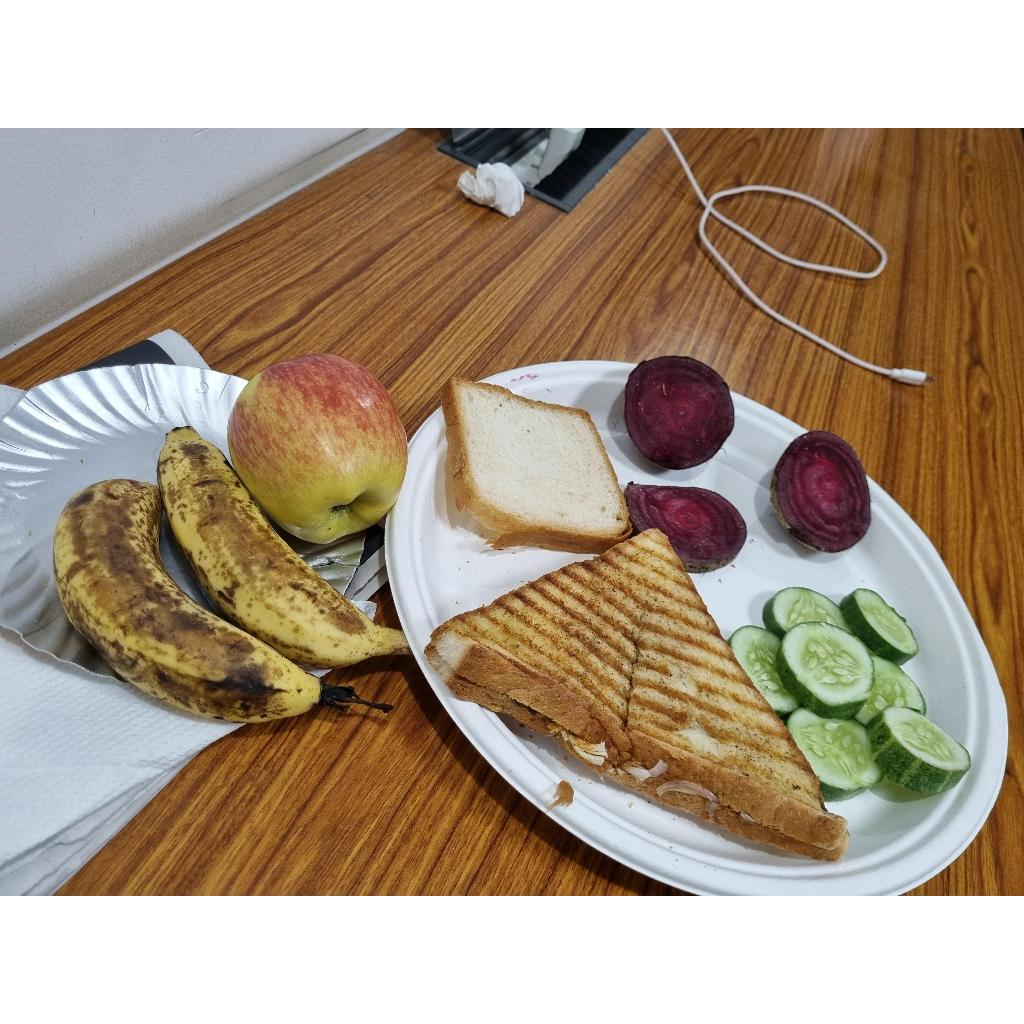apple: (226, 354, 406, 548)
banana: (50, 479, 322, 727), (154, 427, 406, 676)
cucumber: (728, 590, 965, 804)
